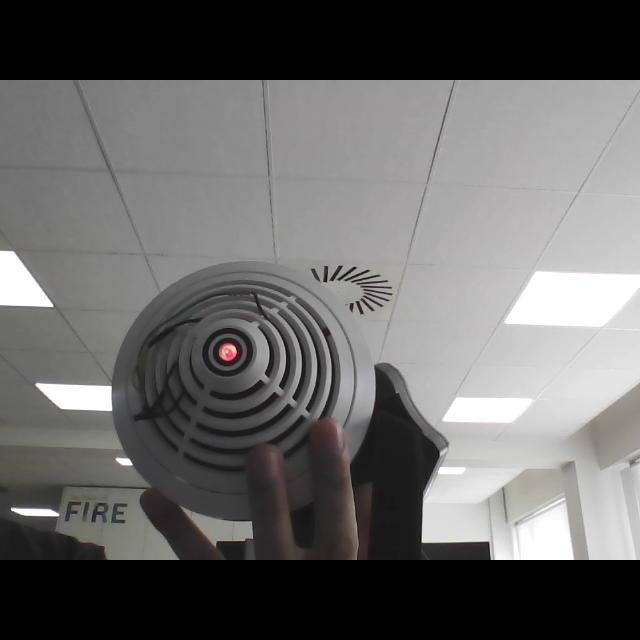Smoke-Detector: (112, 260, 378, 522)
